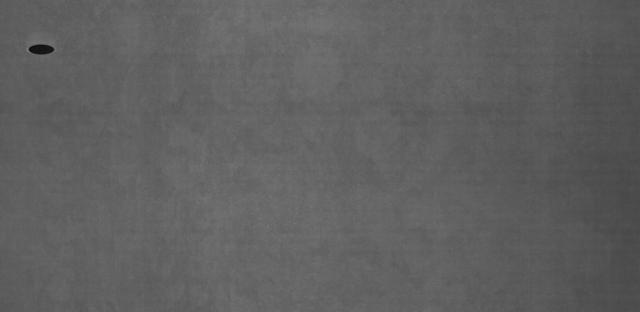punching_hole: (26, 43, 56, 57)
